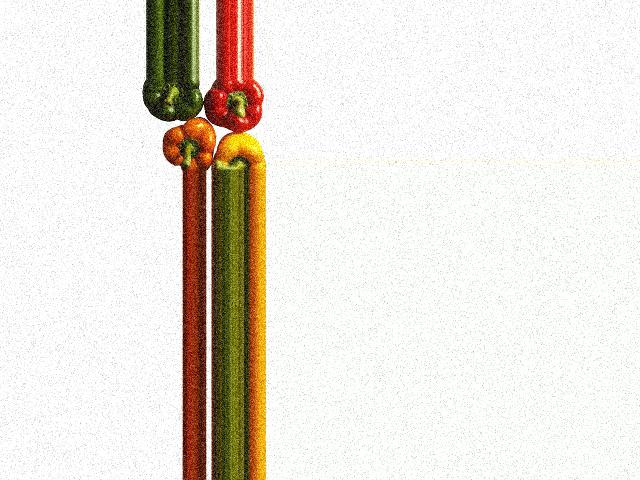bell_pepper: (208, 129, 267, 171)
